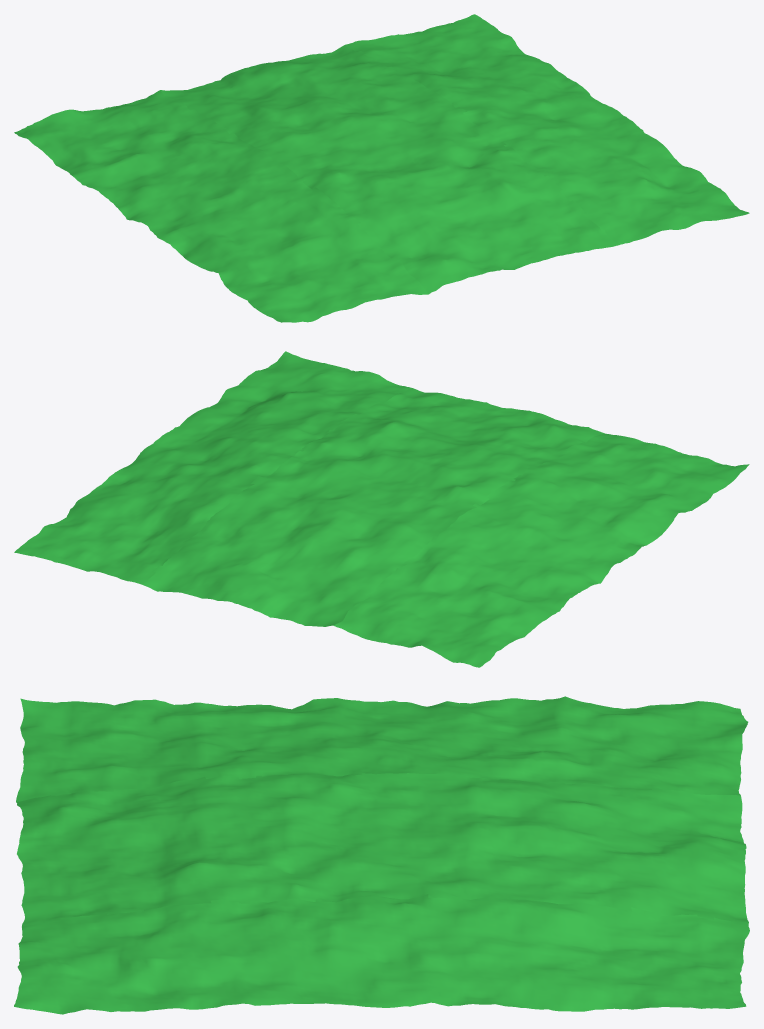
Rendered from Grassy field map.fbx.
The picture shows the model from 3 angles, top to bottom: view 1: azimuth 30°, elevation 25°; view 2: azimuth 150°, elevation 25°; view 3: azimuth 270°, elevation 25°; orthographic projection. The views are drawn at different scales.
Parts seen in each view (by area): view 1: Plane, Plane.001, Plane.002; view 2: Plane, Plane.001, Plane.002; view 3: Plane, Plane.002, Plane.001.
Part boxes in pixels (x1=…): Plane: x1=160, y1=45, x2=616, y2=293; Plane.001: x1=14, y1=90, x2=428, y2=322; Plane.002: x1=345, y1=14, x2=749, y2=245; Plane: x1=142, y1=388, x2=604, y2=626; Plane.001: x1=333, y1=433, x2=749, y2=667; Plane.002: x1=14, y1=351, x2=412, y2=584; Plane: x1=16, y1=773, x2=748, y2=925; Plane.002: x1=14, y1=894, x2=749, y2=1014; Plane.001: x1=16, y1=696, x2=748, y2=801.
Size of the model in its own units: 67046 by 3880 by 66943.
